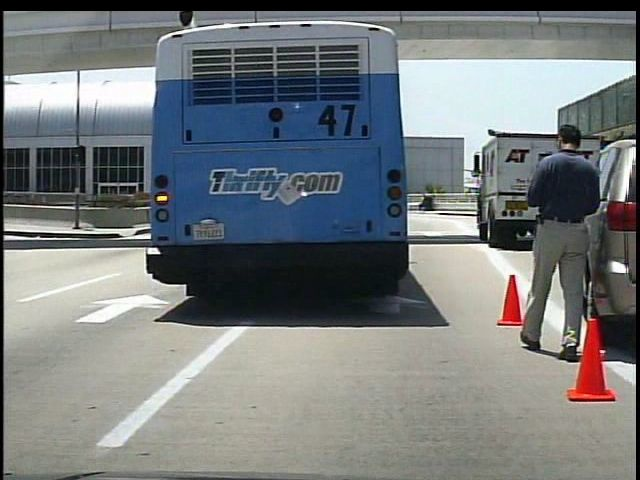person: (522, 118, 600, 364)
